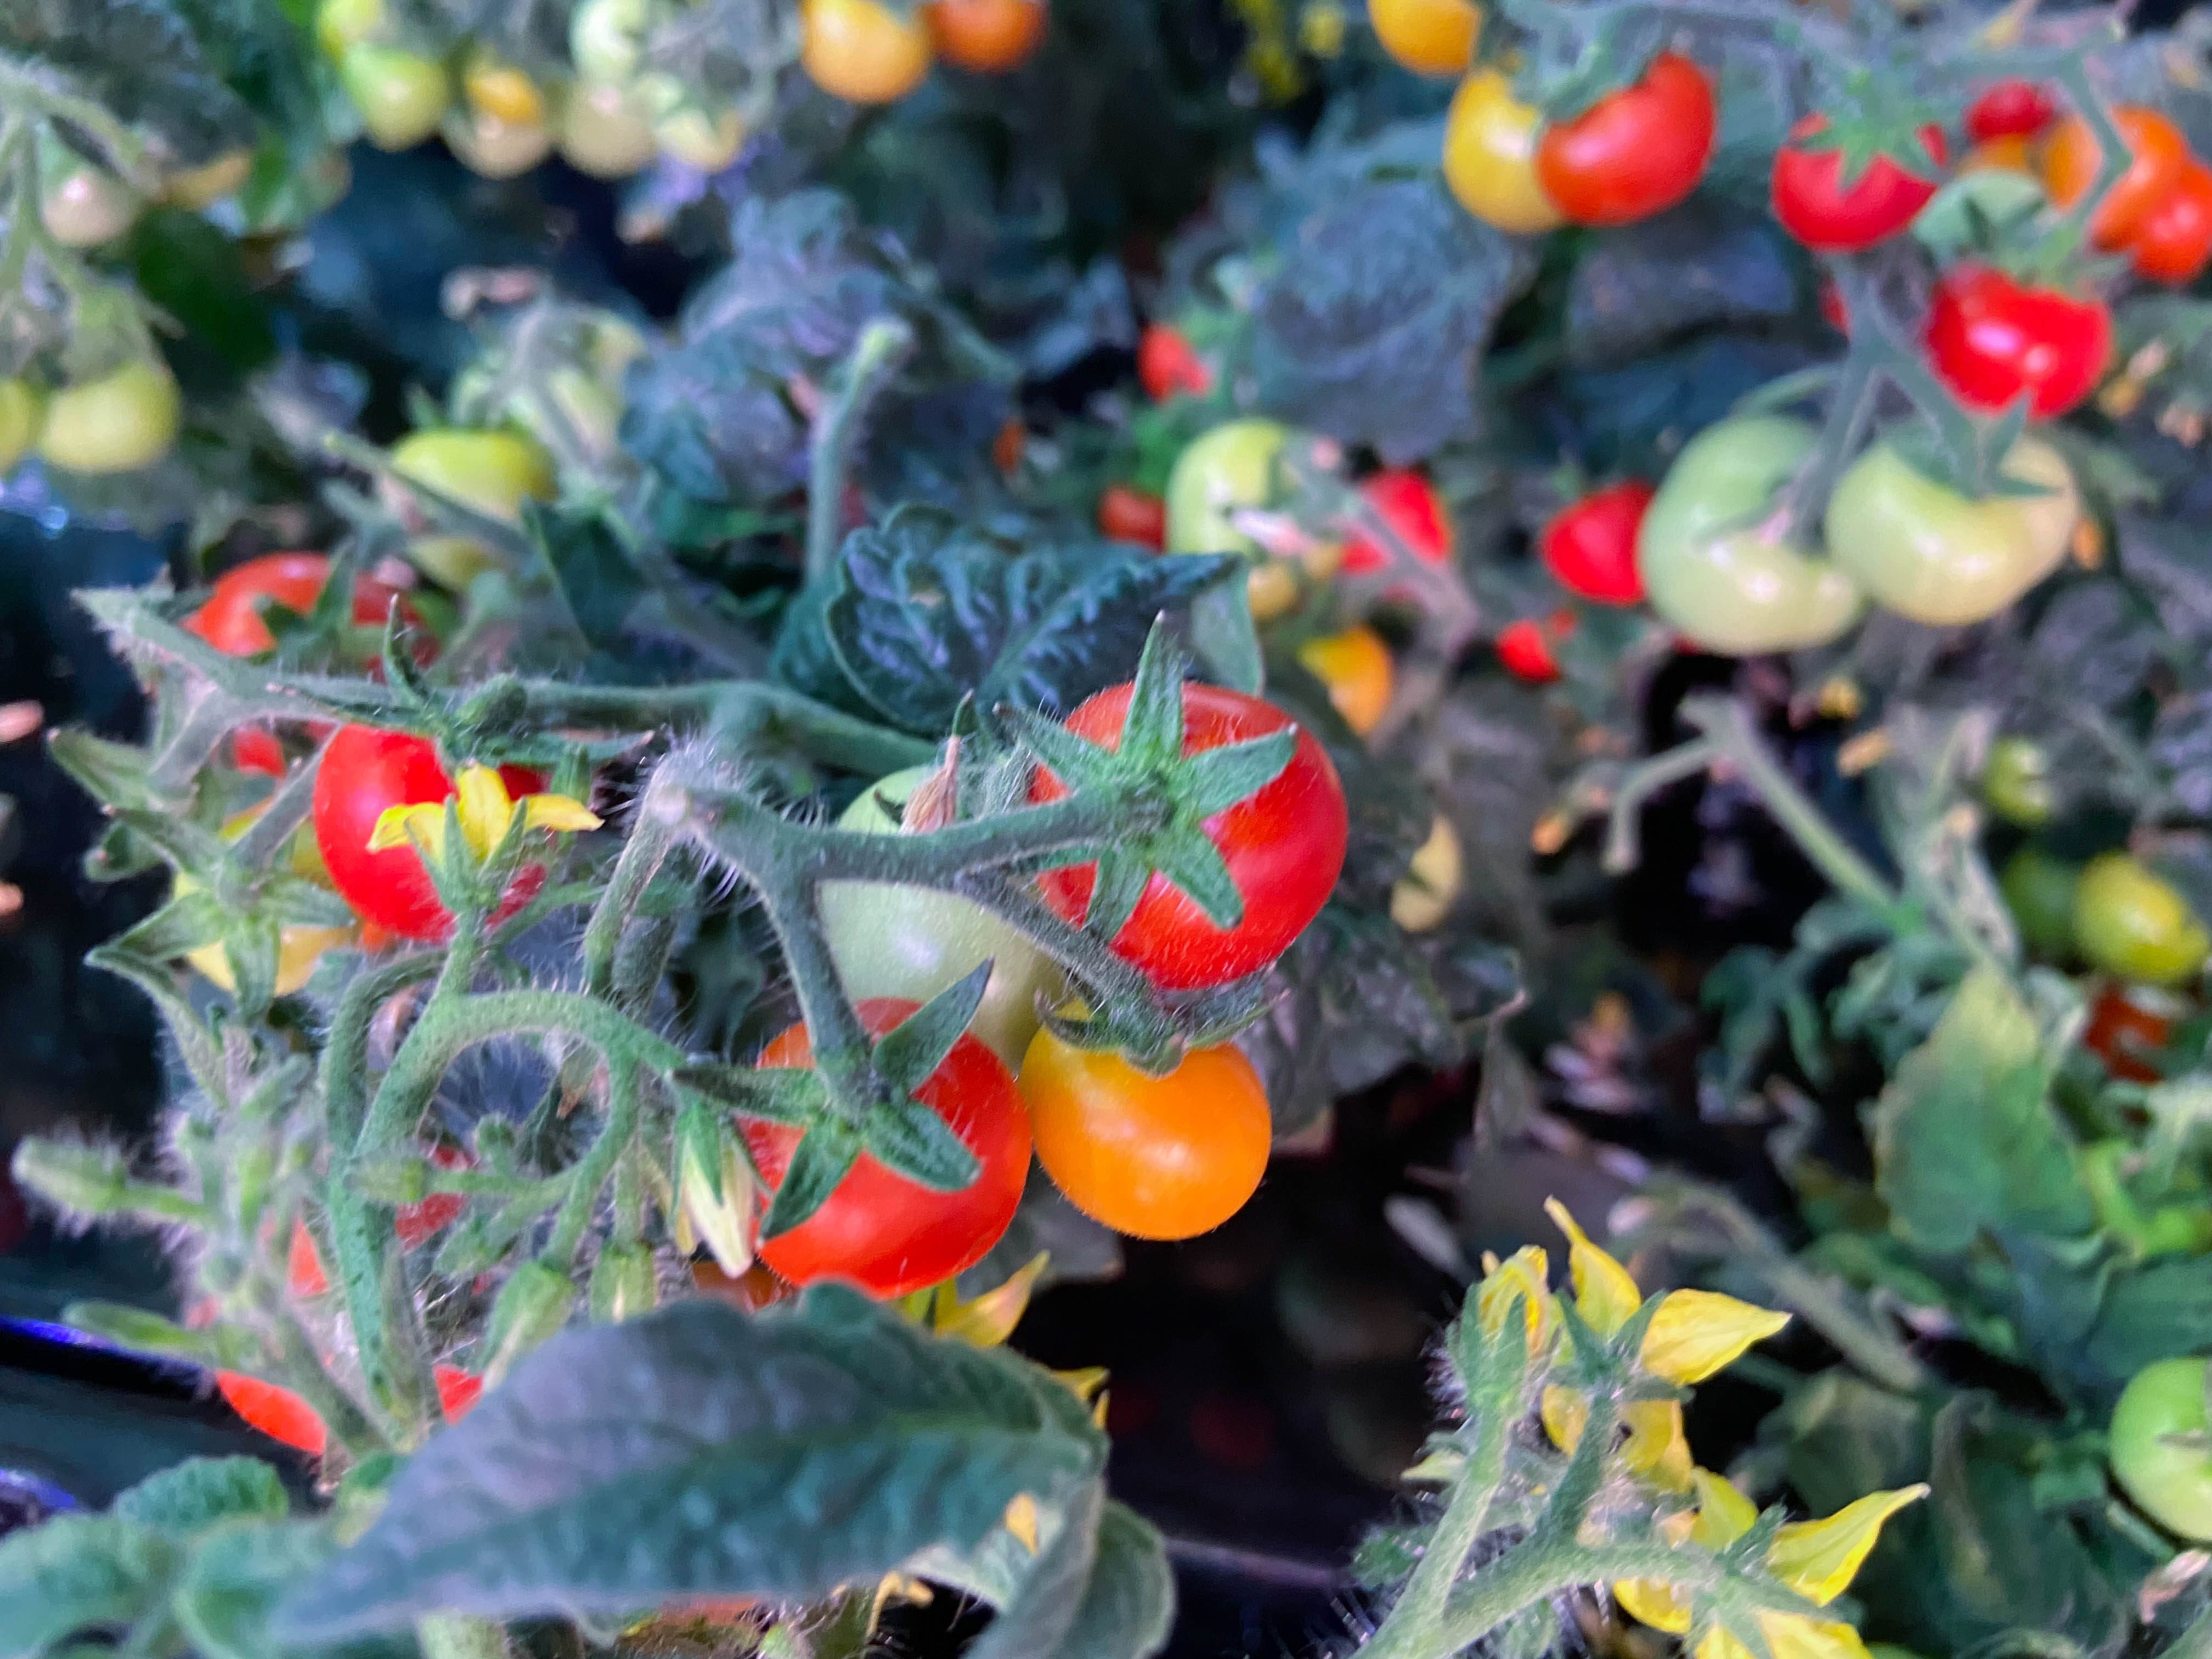green: (810, 746, 1082, 1046), (1637, 410, 1874, 659), (1829, 423, 2078, 626), (1167, 418, 1327, 589), (2106, 1354, 2210, 1542), (33, 345, 181, 476), (2071, 849, 2203, 981), (35, 143, 164, 246), (453, 54, 556, 178), (1998, 838, 2095, 962), (340, 47, 453, 148), (651, 82, 751, 173), (573, 2, 672, 91), (1979, 727, 2067, 824), (563, 78, 653, 173), (317, 0, 435, 64)
red: (1026, 673, 1346, 992), (206, 1150, 502, 1473), (723, 988, 1031, 1297), (1022, 1000, 1268, 1241), (308, 714, 554, 939), (167, 770, 368, 1002), (188, 549, 395, 723), (1533, 37, 1717, 223), (1919, 256, 2113, 416), (1409, 464, 1622, 605), (2048, 105, 2212, 277), (1764, 105, 1940, 249), (383, 416, 547, 568), (1444, 64, 1580, 232), (1538, 476, 1656, 603), (796, 2, 935, 103), (1343, 471, 1451, 589), (1289, 626, 1397, 742), (2087, 992, 2181, 1082), (923, 0, 1043, 64), (1965, 75, 2050, 150), (1494, 606, 1569, 681), (1139, 321, 1211, 399), (1099, 477, 1170, 547)
